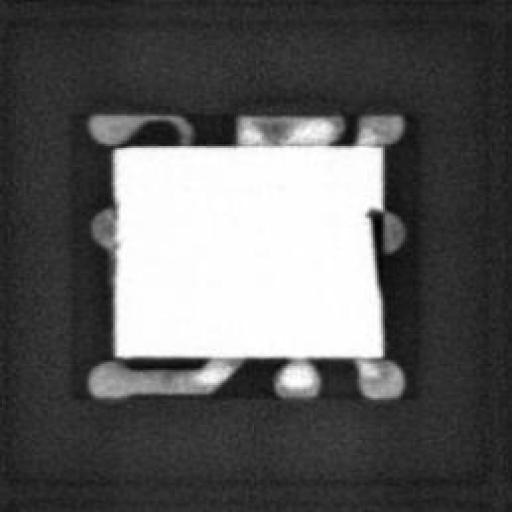DIE_BROKEN: (361, 201, 385, 298)
